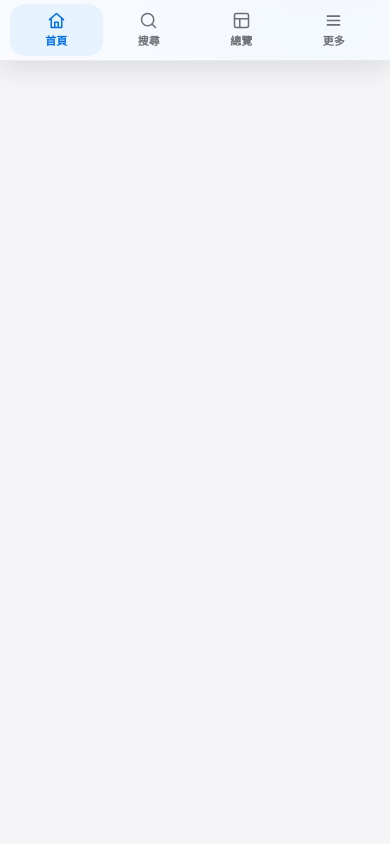
Test: MobileNavigation › closes from Escape, the close control, and a selected route
Step 1. Click the button "更多" → click(334, 30), box [288,4,380,56]
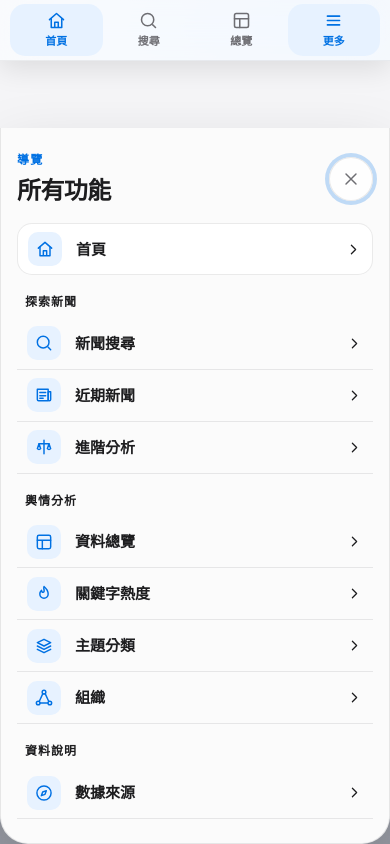
Step 2. Press Escape
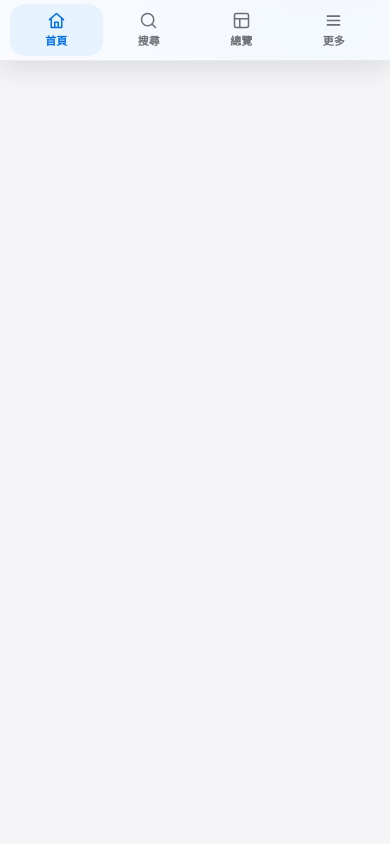
expect the heading "所有功能" is gone: met
Step 3. Click the button "更多" → click(334, 30), box [288,4,380,56]
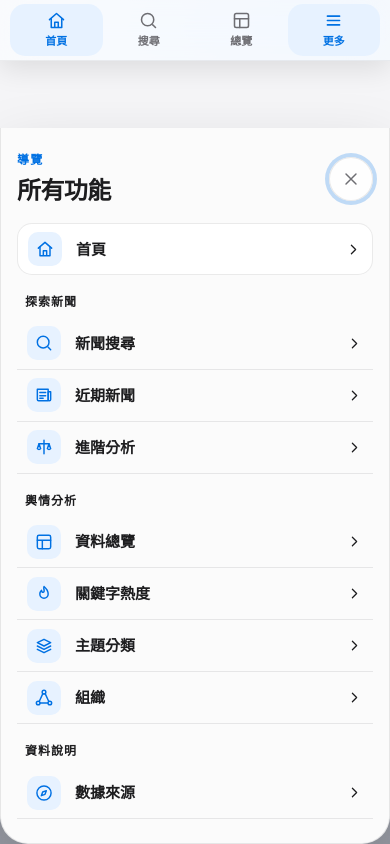
Step 4. Click the button named "關閉功能選單" → click(351, 179), box [329,157,373,201]
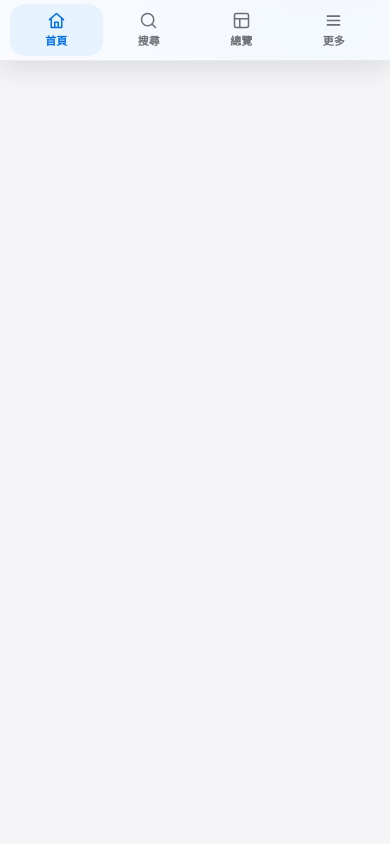
expect the heading "所有功能" is gone: met
Step 5. Click the button "更多" → click(334, 30), box [288,4,380,56]
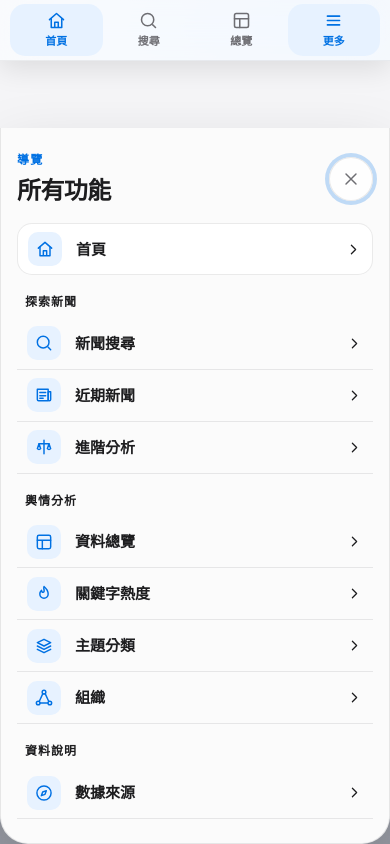
Step 6. Click the link "主題分類" → click(44, 646), box [17,620,373,672]
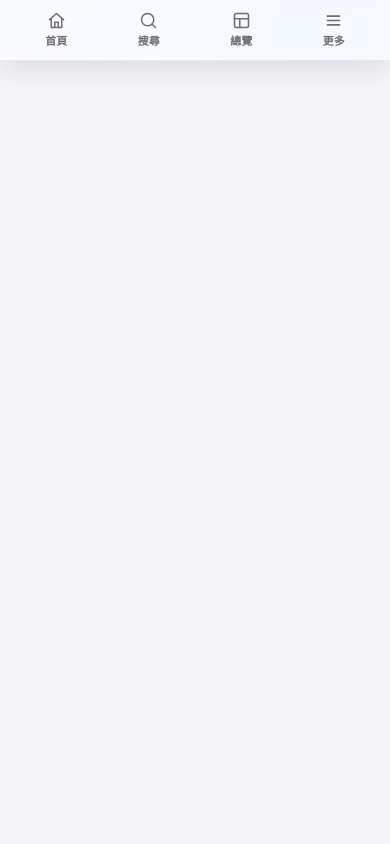
expect the heading "所有功能" is gone: met
